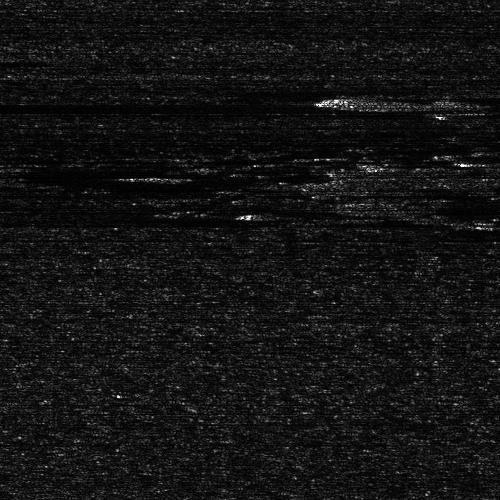object: (271, 96, 438, 109), (118, 174, 201, 181), (410, 112, 483, 117), (226, 211, 299, 216)
shadow: (0, 99, 366, 114), (355, 96, 500, 109), (159, 174, 315, 181), (263, 211, 344, 216), (446, 112, 500, 117), (0, 58, 24, 65)
